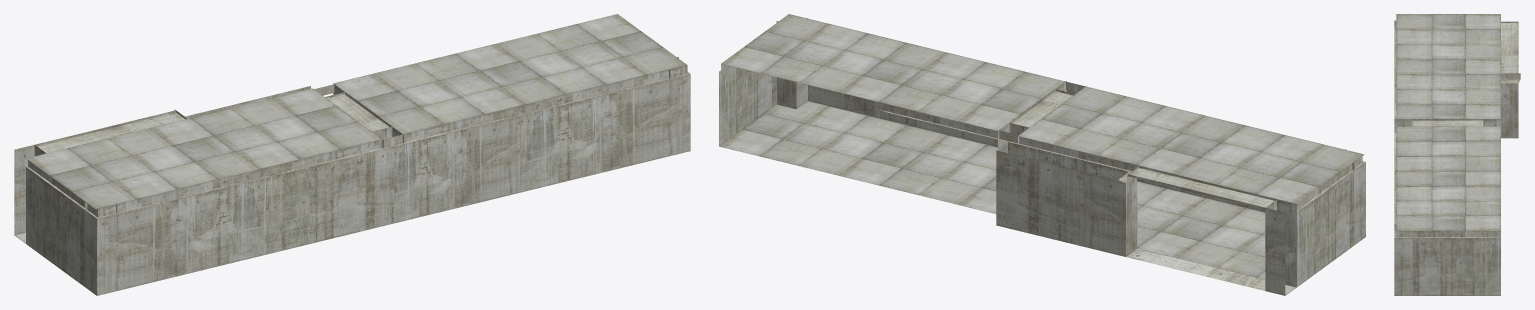
The model's file is Jails_Parts_Set_L.fbx.
The picture shows the model from 3 angles, left to right: view 1: azimuth 30°, elevation 25°; view 2: azimuth 150°, elevation 25°; view 3: azimuth 270°, elevation 25°; orthographic projection. The views are drawn at different scales.
Parts seen in each view (by area): view 1: wall01, floor01; view 2: floor01, wall01; view 3: floor01, wall01.
Boxes of the visible parts, x1,y1,x2,y2 form: wall01: (14,57,690,295); floor01: (26,14,686,209); floor01: (719,14,1364,279); wall01: (719,18,1365,295); floor01: (1396,14,1500,230); wall01: (1394,20,1520,295).
Size of the model in its own units: 2900 by 400 by 710.
